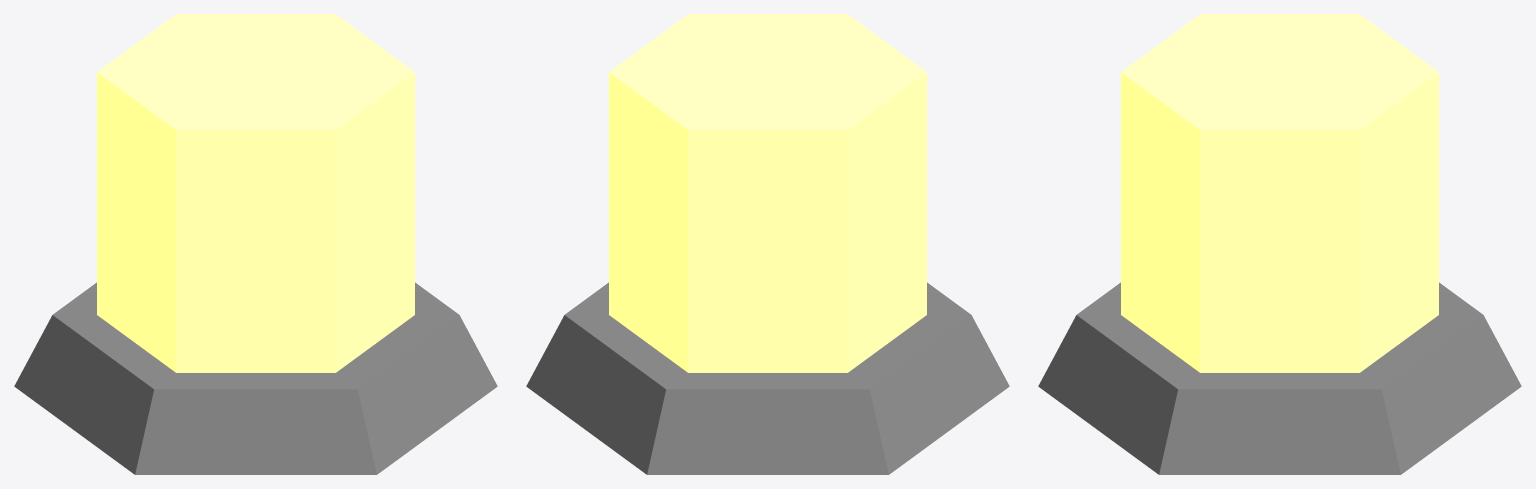
Rendered from charger.dae.
3 renders of one model, left to right at view 1: azimuth 30°, elevation 25°; view 2: azimuth 150°, elevation 25°; view 3: azimuth 270°, elevation 25°, orthographic.
Parts seen in each view (by area): view 1: Cylinder; view 2: Cylinder; view 3: Cylinder.
Boxes of the visible parts, <box> form: Cylinder: <box>14,14,497,474</box>; Cylinder: <box>526,14,1009,474</box>; Cylinder: <box>1038,14,1521,474</box>.
Bounding box in the file's own units: 0.329 × 0.3799 × 0.2723.
